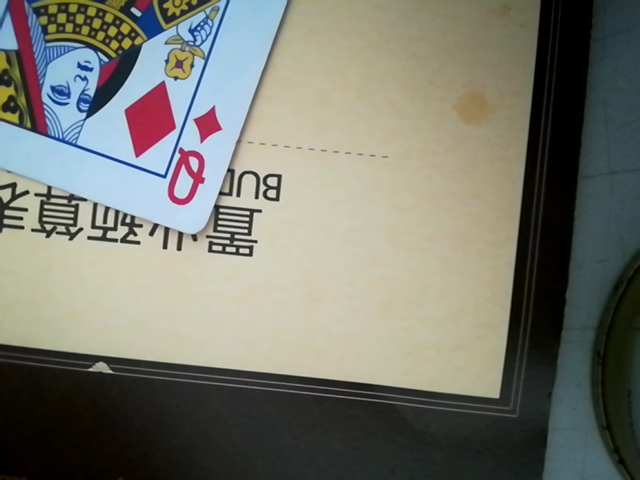fk q: (3, 1, 347, 234)
